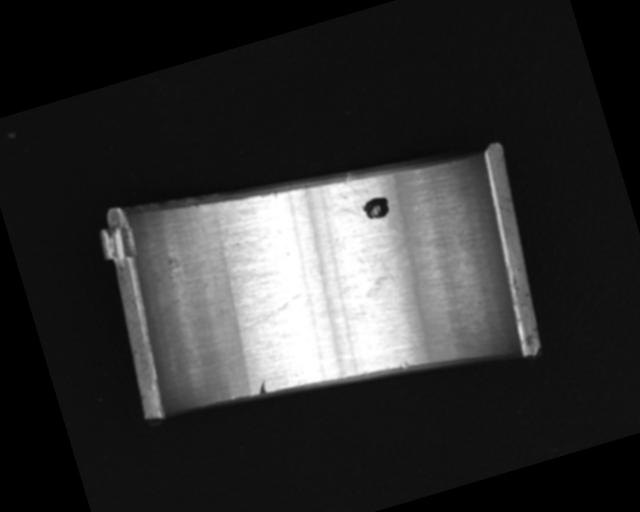blot: (351, 237, 419, 300), (359, 193, 393, 224)
bruise: (255, 378, 269, 396), (399, 360, 411, 371)
